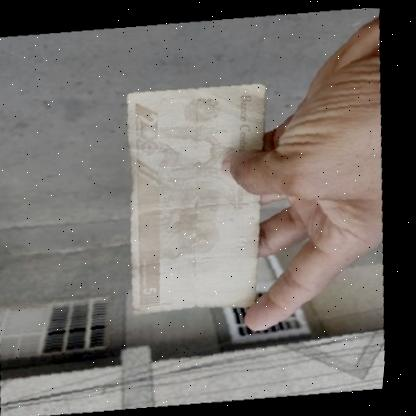five-back-vef: (114, 80, 276, 317)
